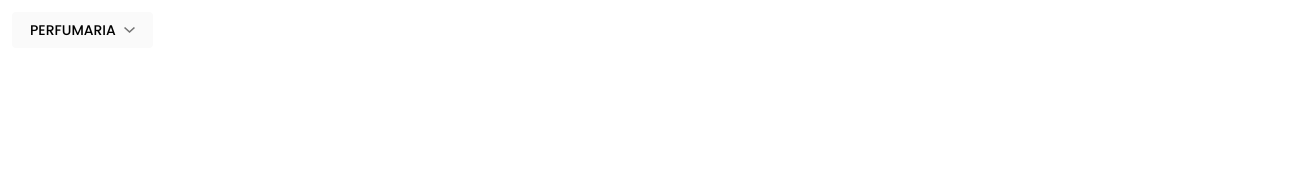
NavItem › fecha ao clicar fora
Click the button "Perfumaria". click: {"x": 82, "y": 30}
box: [12,12,153,48]
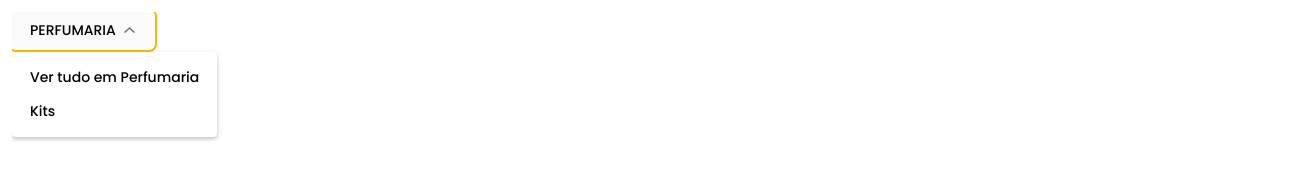
Click the element showing "Perfumaria Ver tudo em Perfumaria Kits". click: {"x": 652, "y": 30}
box: [12,12,1291,48]
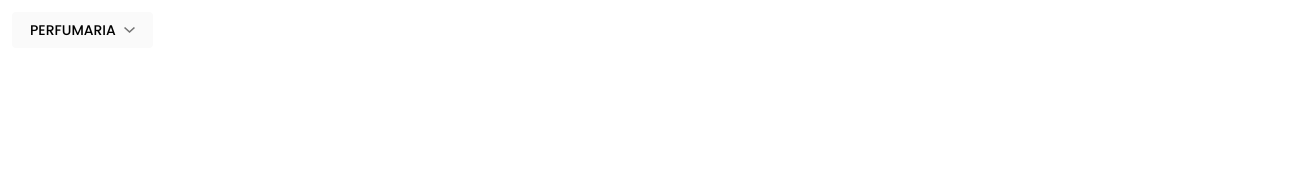
Now the button "Perfumaria" is collapsed, box [12,12,153,48]
